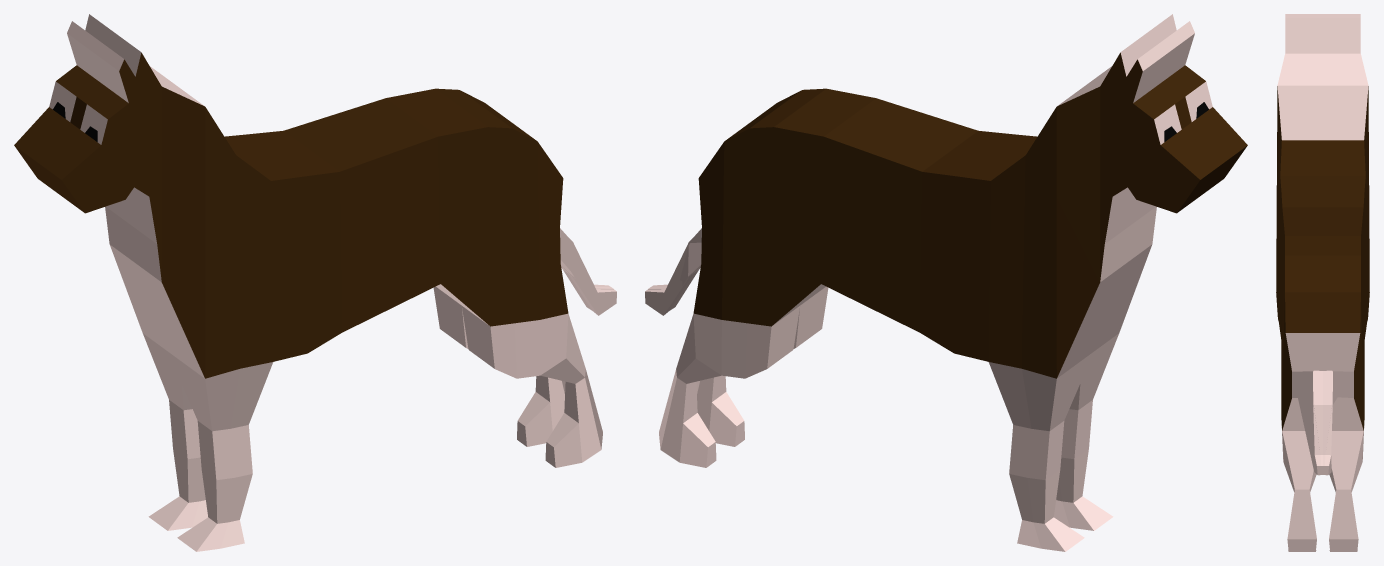
The model's file is Perro.fbx.
The picture shows the model from 3 angles, left to right: view 1: azimuth 30°, elevation 25°; view 2: azimuth 150°, elevation 25°; view 3: azimuth 270°, elevation 25°; orthographic projection. The views are drawn at different scales.
Visible parts, largest first — view 1: Perro; view 2: Perro; view 3: Perro.
Boxes of the visible parts, x1,y1,x2,y2 form: Perro: (14, 14, 616, 551); Perro: (645, 14, 1247, 551); Perro: (1276, 14, 1369, 551).
Bounding box in the file's own units: 376 × 327 × 73.24.
